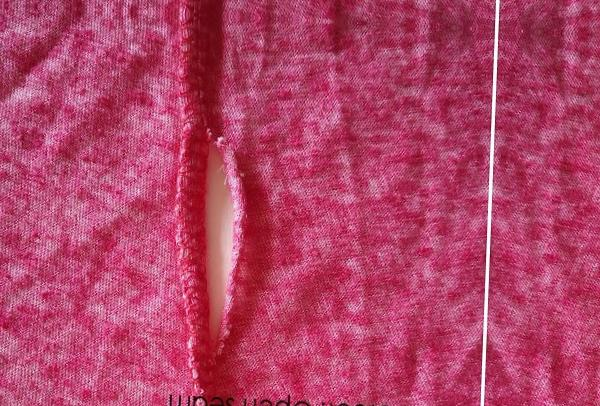hole: (186, 122, 259, 362)
